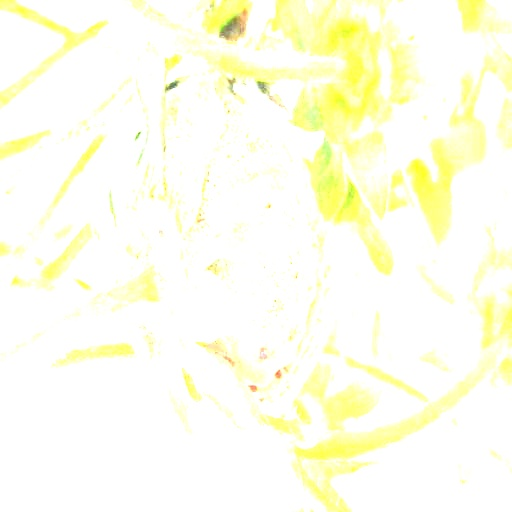Gray Mold: (112, 40, 342, 416)
